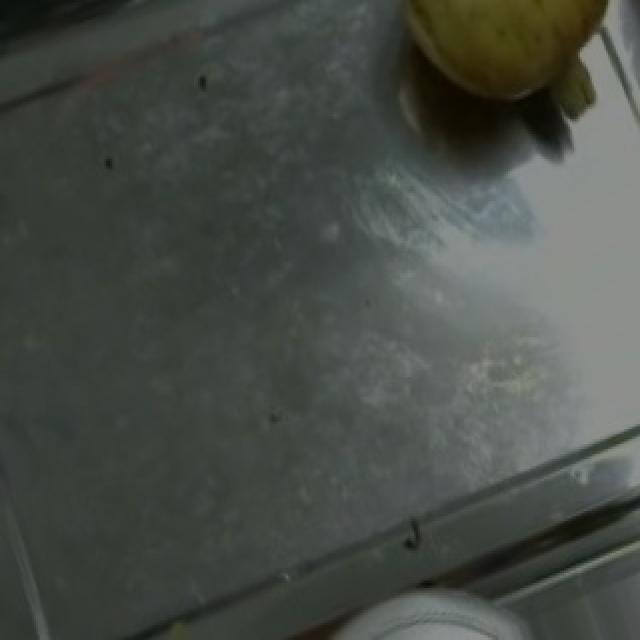fruit: (376, 0, 610, 127)
